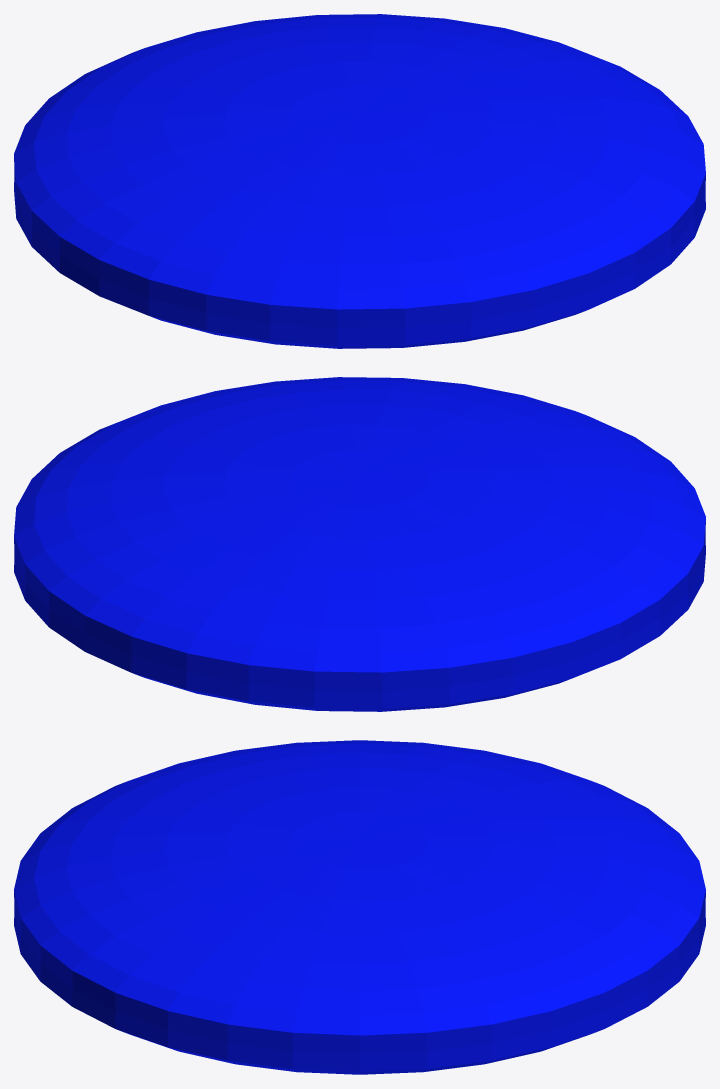
Rendered from _luelenz.fbx.
3 views of the same model, one above another, from view 1: azimuth 30°, elevation 25°; view 2: azimuth 150°, elevation 25°; view 3: azimuth 270°, elevation 25° (orthographic).
Visible parts, largest first — view 1: Sphere.003; view 2: Sphere.003; view 3: Sphere.003.
Part boxes in pixels (left/top/right/bottom): Sphere.003: left=14, top=14, right=705, bottom=348; Sphere.003: left=14, top=377, right=705, bottom=711; Sphere.003: left=14, top=740, right=705, bottom=1074.
Size of the model in its own units: 6.57 by 1.41 by 6.57.
